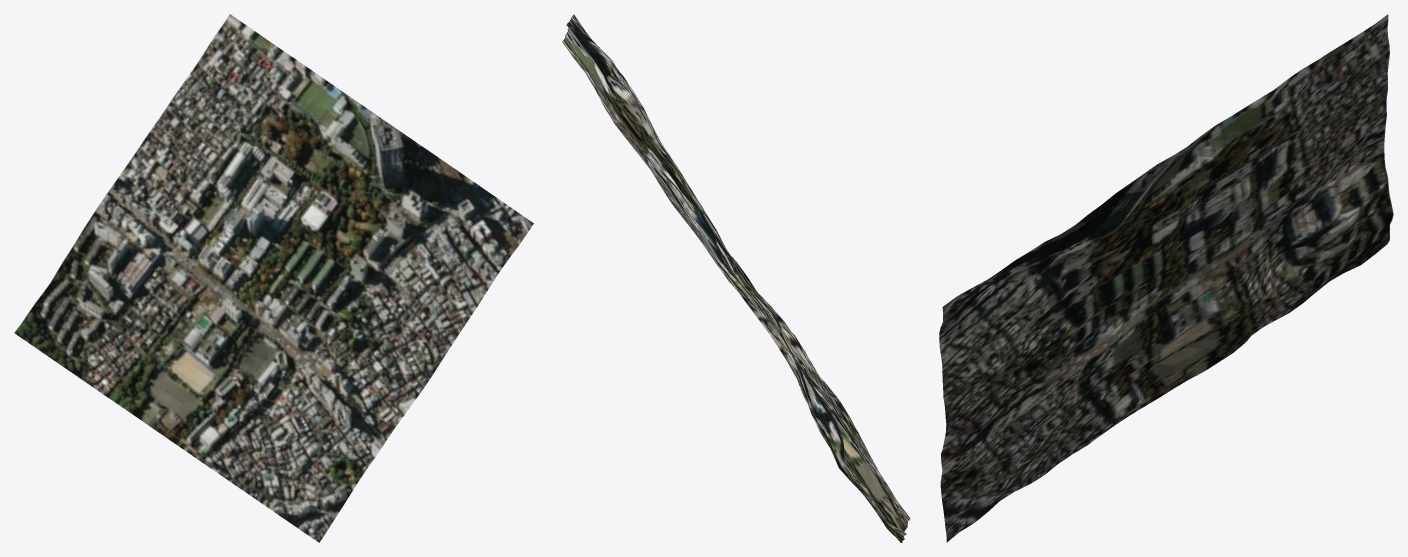
3 views of the same model, side by side, from view 1: azimuth 30°, elevation 25°; view 2: azimuth 150°, elevation 25°; view 3: azimuth 270°, elevation 25° (orthographic). The views are drawn at different scales.
Bounding box in the file's own units: 1087 × 1140 × 818.
1 material, 1 textured.
